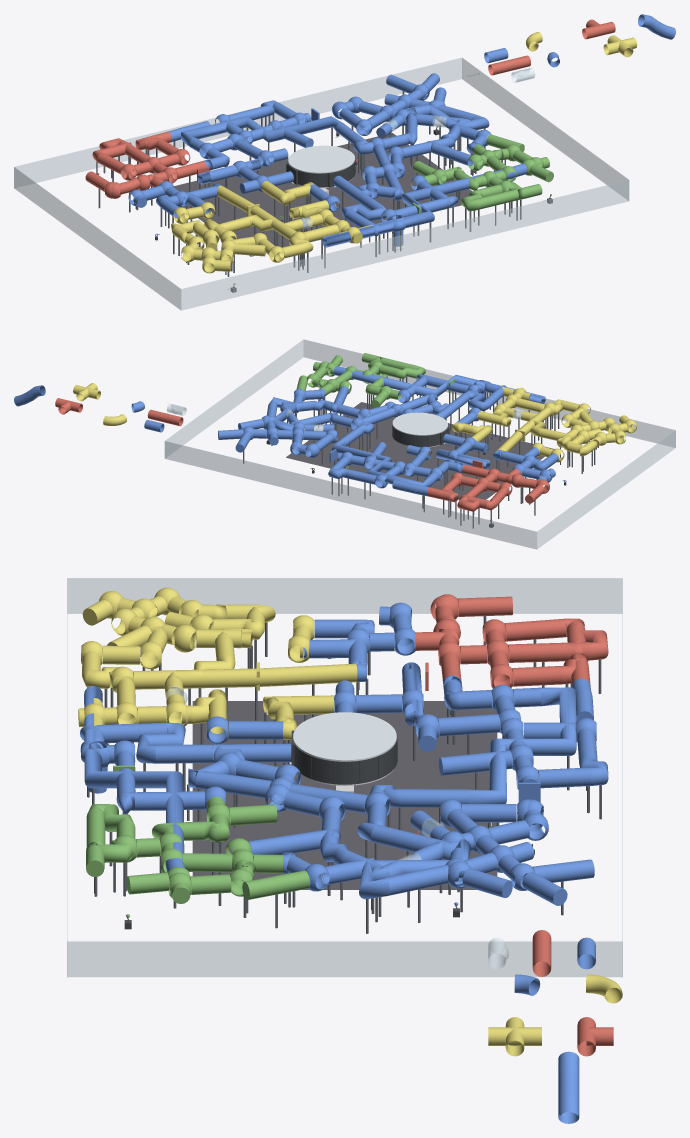
File: tube maze.glb
3 views of the same model, one above another, from view 1: azimuth 30°, elevation 25°; view 2: azimuth 150°, elevation 25°; view 3: azimuth 270°, elevation 25° (orthographic). The views are drawn at different scales.
Visible parts, largest first — view 1: Glass_South, Glass_North, PlayPlace_Floor, Glass_West, Glass_East, EndpointBridge_053, EndpointBridge_052, CircleRoom_Ceiling, EndpointBridge_051, MODULE_Enclosed_Slide, MODULE_Straight_8m, Tube_078 (+2 smaller); view 2: Glass_North, PlayPlace_Floor, Glass_South, Glass_West, Glass_East, EndpointBridge_053, CircleRoom_Ceiling, EndpointBridge_052, EndpointBridge_051, EndpointBridge_050, MODULE_Enclosed_Slide, MODULE_Straight_8m (+1 smaller); view 3: Glass_East, Glass_West, PlayPlace_Floor, CircleRoom_Ceiling, EndpointBridge_052, EndpointBridge_053, Tube_093, Tube_071, EndpointBridge_051, MODULE_Enclosed_Slide, Tube_060, Tube_078 (+23 smaller).
Boxes of the visible parts, box(x1,y1,x2,y2) form: Glass_South: box(181, 180, 629, 310); Glass_North: box(14, 57, 461, 187); PlayPlace_Floor: box(174, 133, 472, 256); Glass_West: box(14, 167, 180, 310); Glass_East: box(462, 58, 628, 200); EndpointBridge_053: box(322, 163, 527, 247); EndpointBridge_052: box(181, 116, 343, 146); CircleRoom_Ceiling: box(288, 145, 354, 173); EndpointBridge_051: box(404, 103, 489, 129); MODULE_Enclosed_Slide: box(638, 14, 675, 39); MODULE_Straight_8m: box(488, 55, 530, 75); Tube_078: box(431, 142, 473, 165); Glass_North: box(164, 441, 536, 549); PlayPlace_Floor: box(286, 402, 554, 499); Glass_South: box(303, 339, 675, 447); Glass_West: box(537, 430, 675, 549); Glass_East: box(165, 339, 303, 457); EndpointBridge_053: box(333, 366, 545, 403); CircleRoom_Ceiling: box(392, 412, 447, 435); EndpointBridge_052: box(332, 439, 432, 486); EndpointBridge_051: box(270, 397, 296, 430); EndpointBridge_050: box(436, 449, 490, 469); MODULE_Enclosed_Slide: box(14, 385, 45, 406); MODULE_Straight_8m: box(147, 409, 183, 426); Glass_East: box(67, 941, 622, 977); Glass_West: box(67, 578, 622, 613); PlayPlace_Floor: box(192, 701, 497, 889); CircleRoom_Ceiling: box(293, 712, 396, 761); EndpointBridge_052: box(469, 687, 576, 803); EndpointBridge_053: box(84, 685, 184, 871); Tube_093: box(133, 668, 245, 689); Tube_071: box(270, 663, 357, 686); EndpointBridge_051: box(359, 839, 470, 899); MODULE_Enclosed_Slide: box(558, 1051, 579, 1123); Tube_060: box(195, 771, 272, 799); Tube_078: box(248, 830, 324, 855).
Size of the model in its own units: 138 by 8.35 by 62.1.
